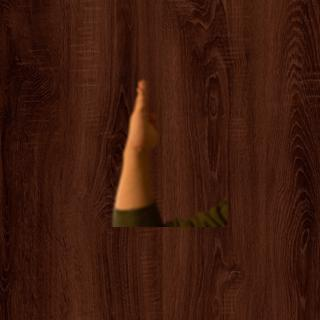RIGHT: (120, 75, 161, 158)
